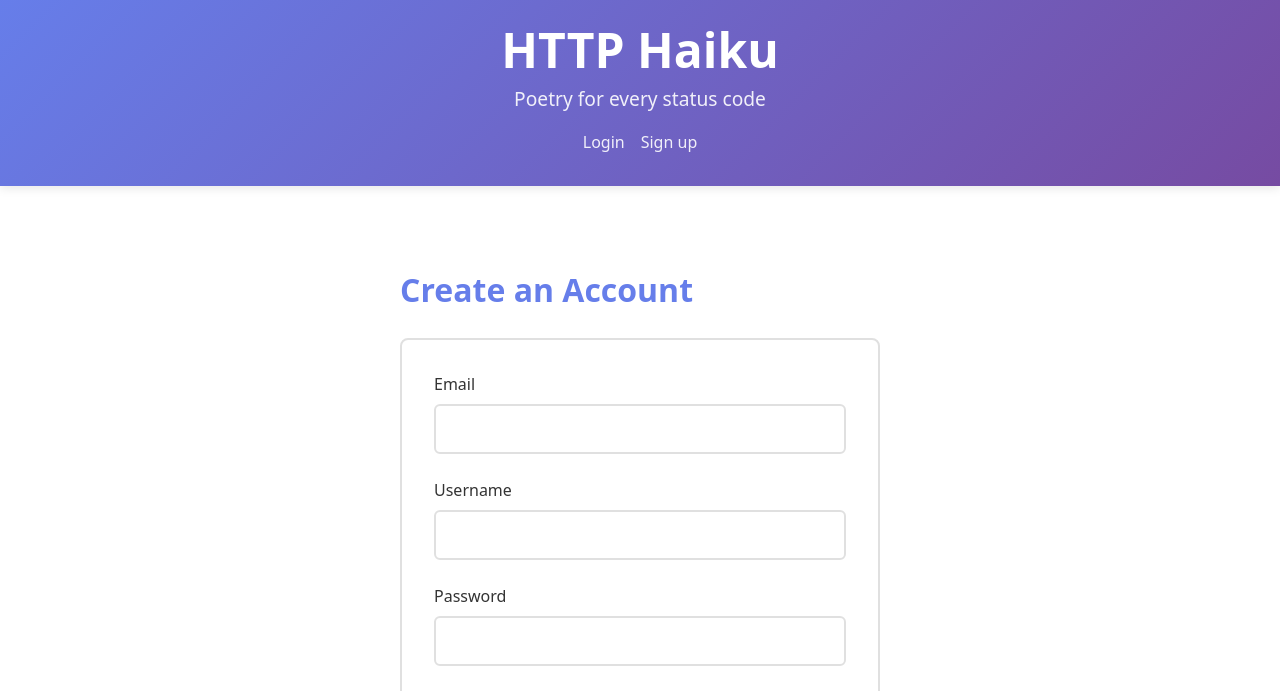
it: SignupPage › shows fallback error when no errors array
The width and height of the screenshot is (1280, 691).
Type "new@example.com" into the field labelled "Email" at (640, 429), box [434,404,846,454]
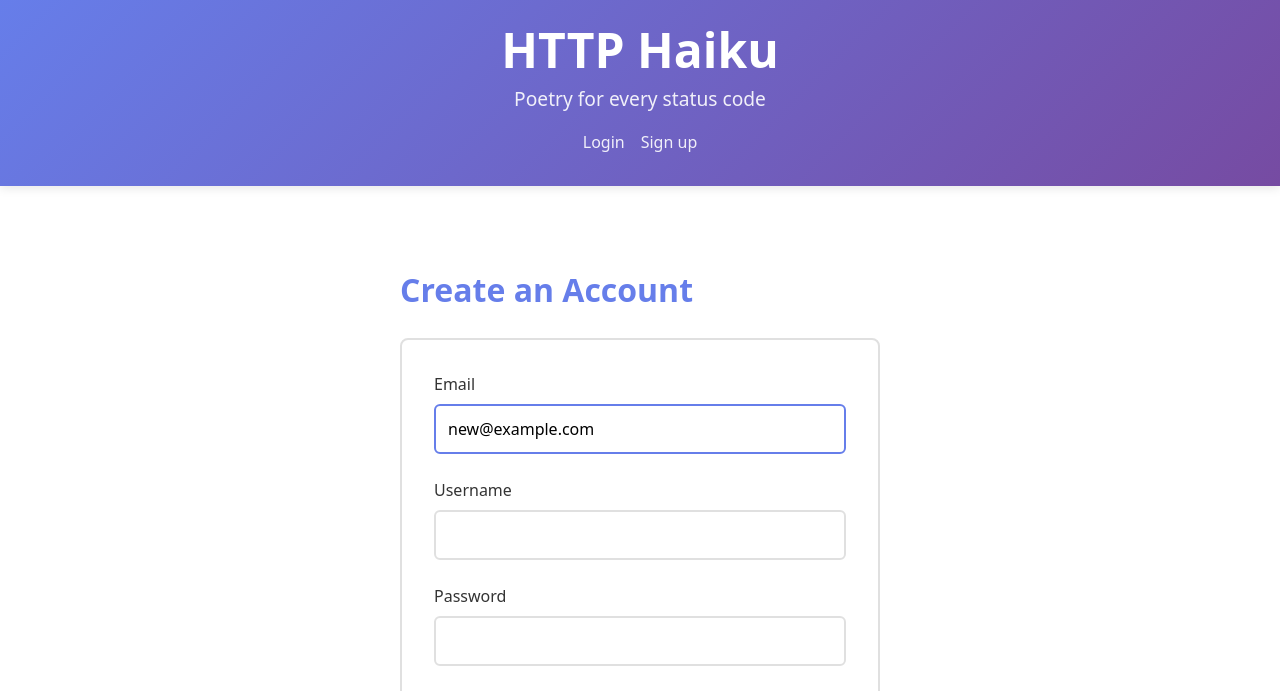
Type "newuser" into the field labelled "Username" at (640, 535), box [434,510,846,560]
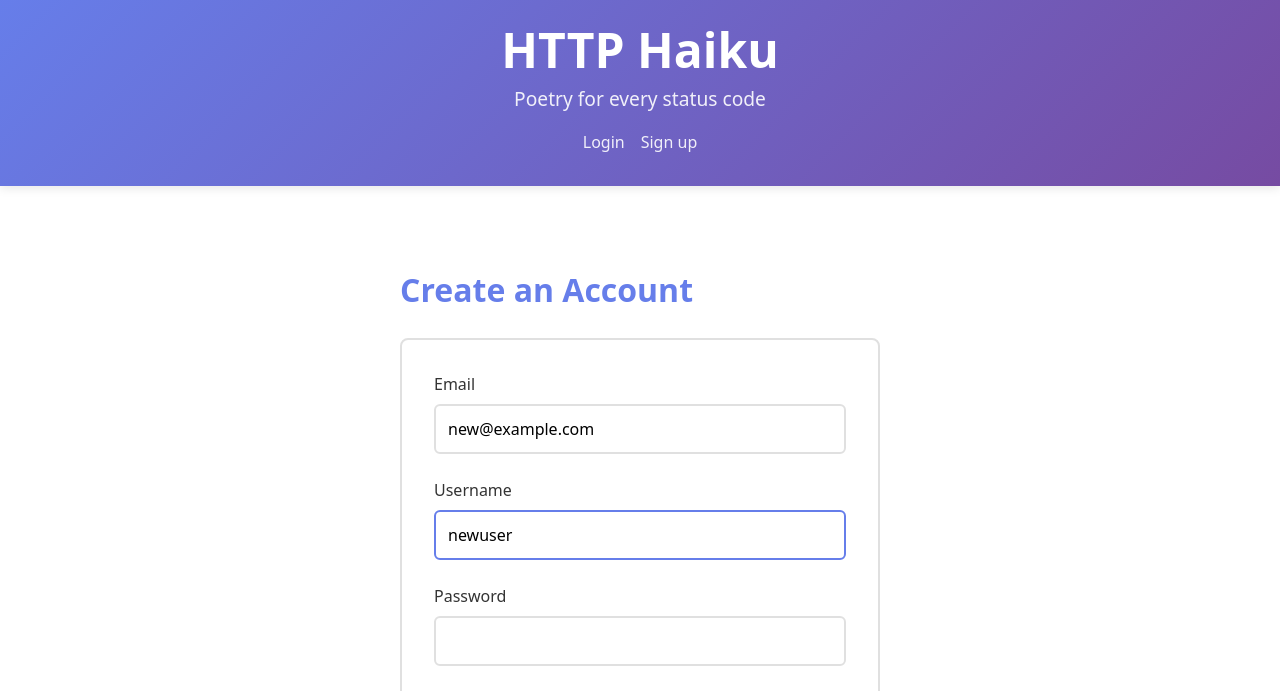
Type "password123" into the password field labelled "Password" at (640, 641), box [434,616,846,666]
(page scrolled)
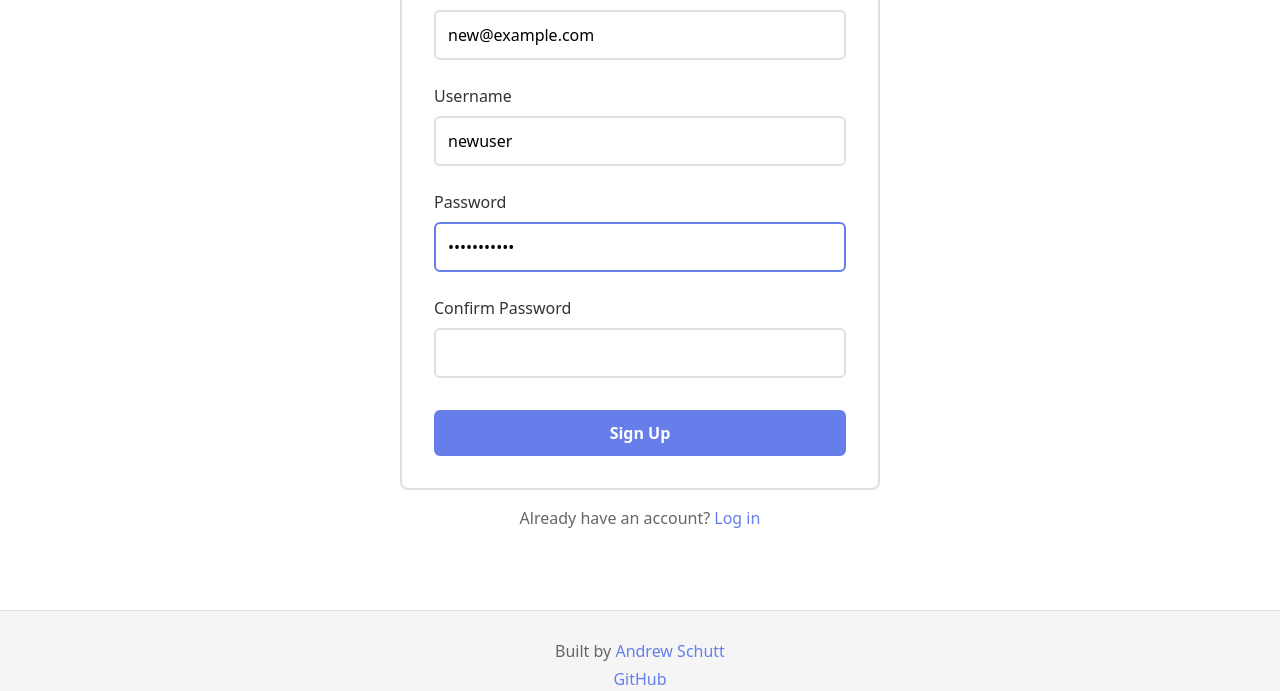
Type "password123" into the password field labelled "Confirm Password" at (640, 353), box [434,328,846,378]
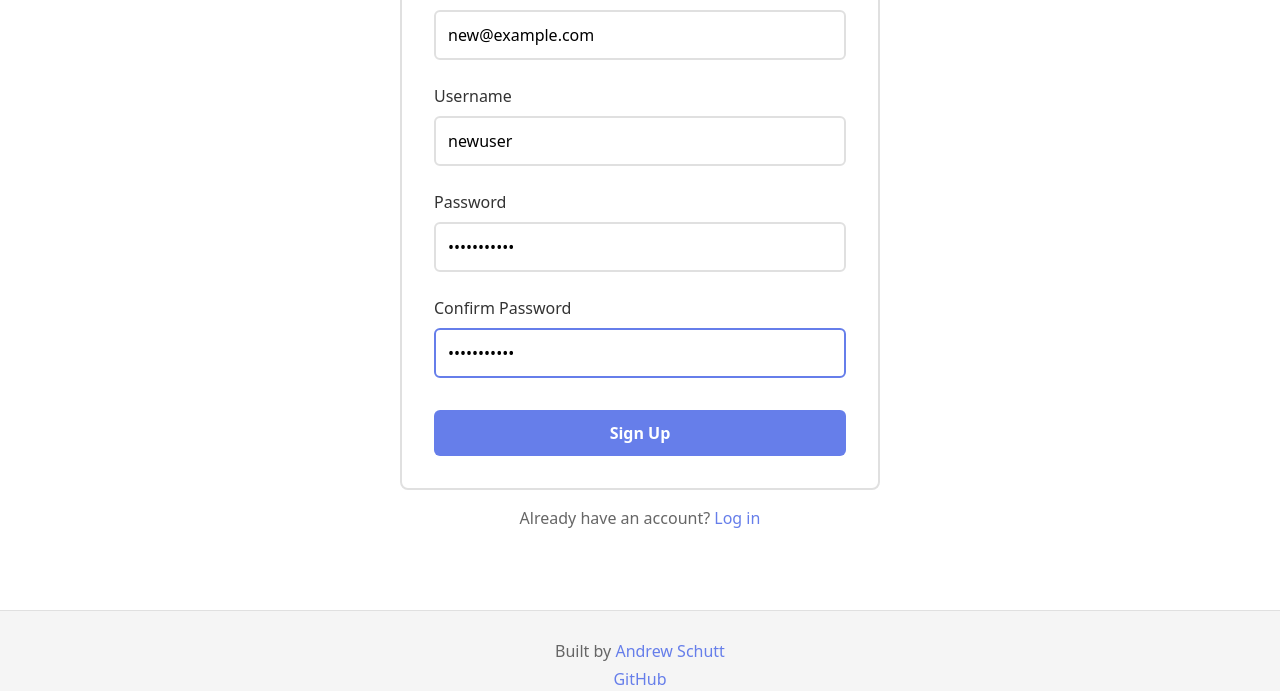
Click the button "Sign Up" at (640, 433), box [434,410,846,456]
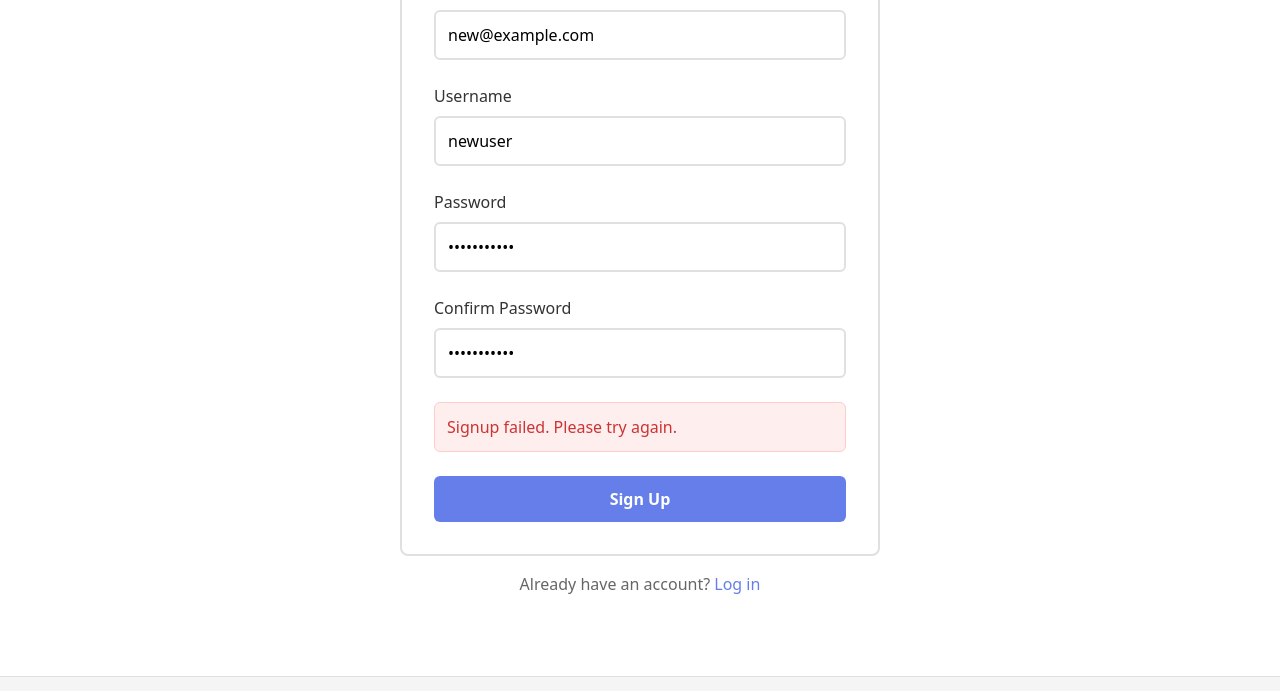
Result: the text "Signup failed. Please try again." is shown at [434,402,846,452]
